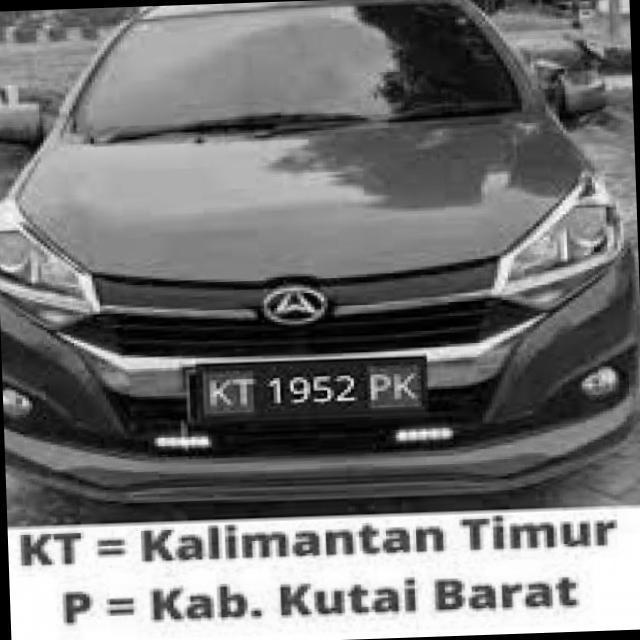1: (268, 372, 290, 409)
2: (334, 370, 364, 410)
5: (312, 370, 341, 412)
9: (282, 372, 313, 412)
K: (389, 366, 419, 412), (206, 377, 233, 408)
P: (368, 374, 392, 412)
T: (232, 376, 255, 409)
